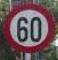Gioi han toc do: (3, 3, 56, 53)
